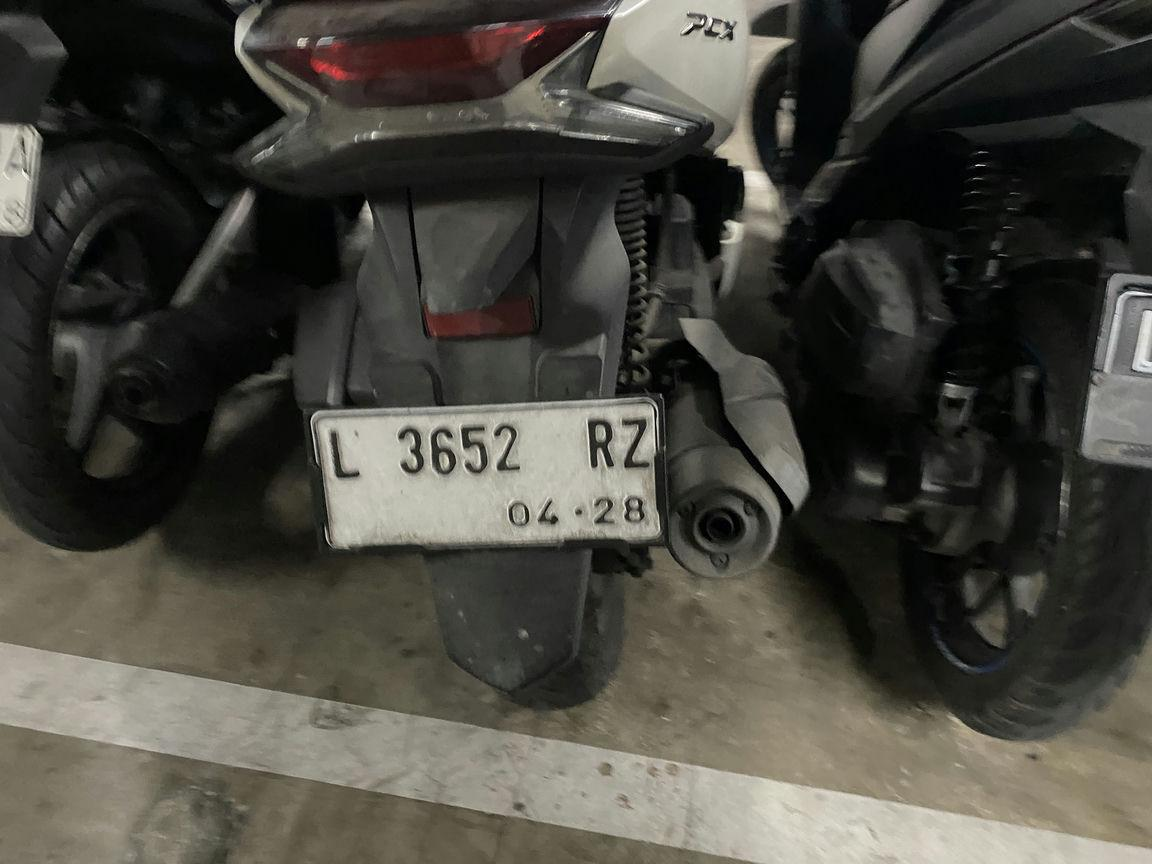plat: (317, 400, 662, 548)
